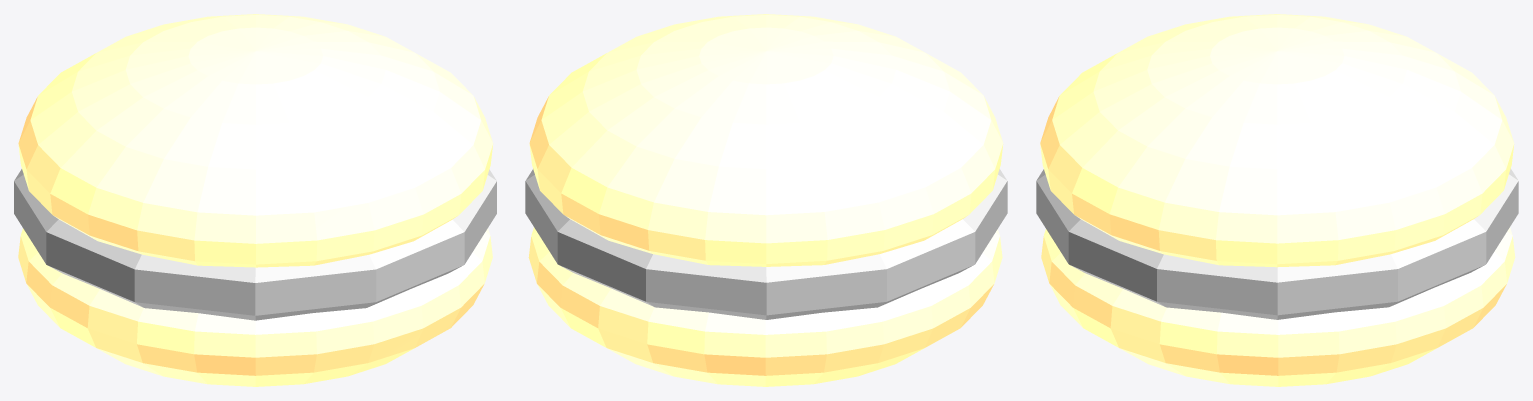
File: Macaron.fbx
The picture shows the model from 3 angles, left to right: view 1: azimuth 30°, elevation 25°; view 2: azimuth 150°, elevation 25°; view 3: azimuth 270°, elevation 25°; orthographic projection.
Visible parts, largest first — view 1: Macaron; view 2: Macaron; view 3: Macaron.
Part boxes in pixels (x1,y1,x2,y2): Macaron: (14, 14, 496, 386); Macaron: (525, 14, 1007, 386); Macaron: (1036, 14, 1518, 386).
Bounding box in the file's own units: 190 × 130 × 190.
